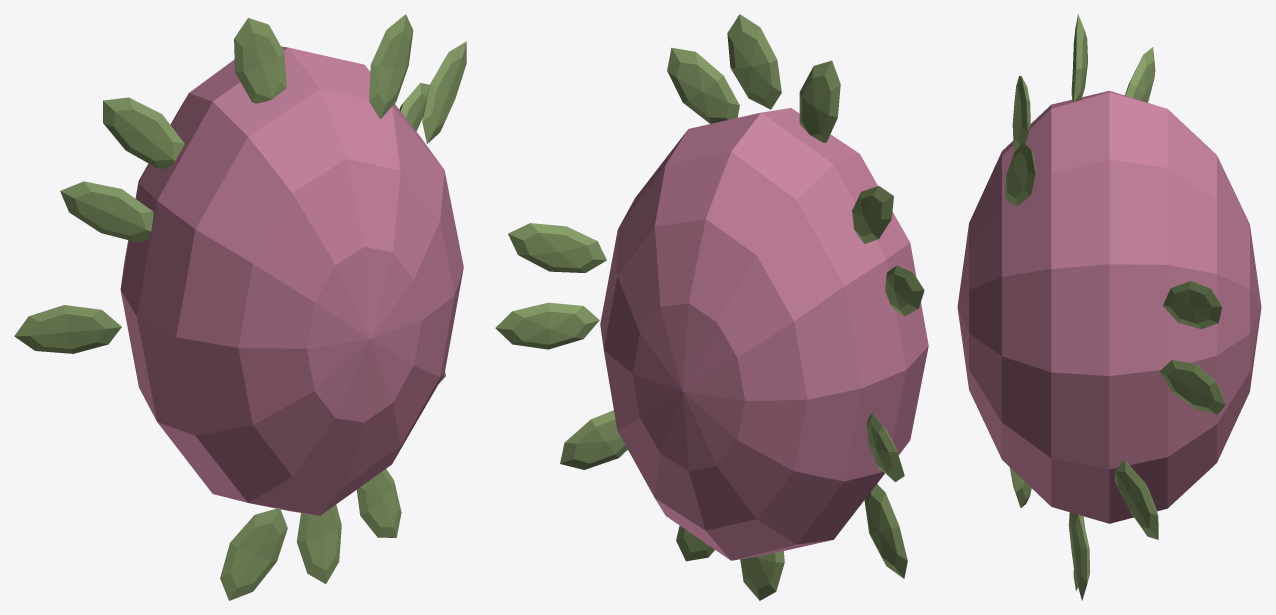
File: dragon_fruit.glb
The picture shows the model from 3 angles, left to right: view 1: azimuth 30°, elevation 25°; view 2: azimuth 150°, elevation 25°; view 3: azimuth 270°, elevation 25°; orthographic projection. The views are drawn at different scales.
Parts seen in each view (by area): view 1: dragon_fruit; view 2: dragon_fruit; view 3: dragon_fruit.
Boxes of the visible parts, left/top/right/bottom form: dragon_fruit: left=14, top=14, right=466, bottom=600; dragon_fruit: left=495, top=14, right=928, bottom=600; dragon_fruit: left=957, top=14, right=1261, bottom=600.
Size of the model in its own units: 0.1266 by 0.1654 by 0.084.
